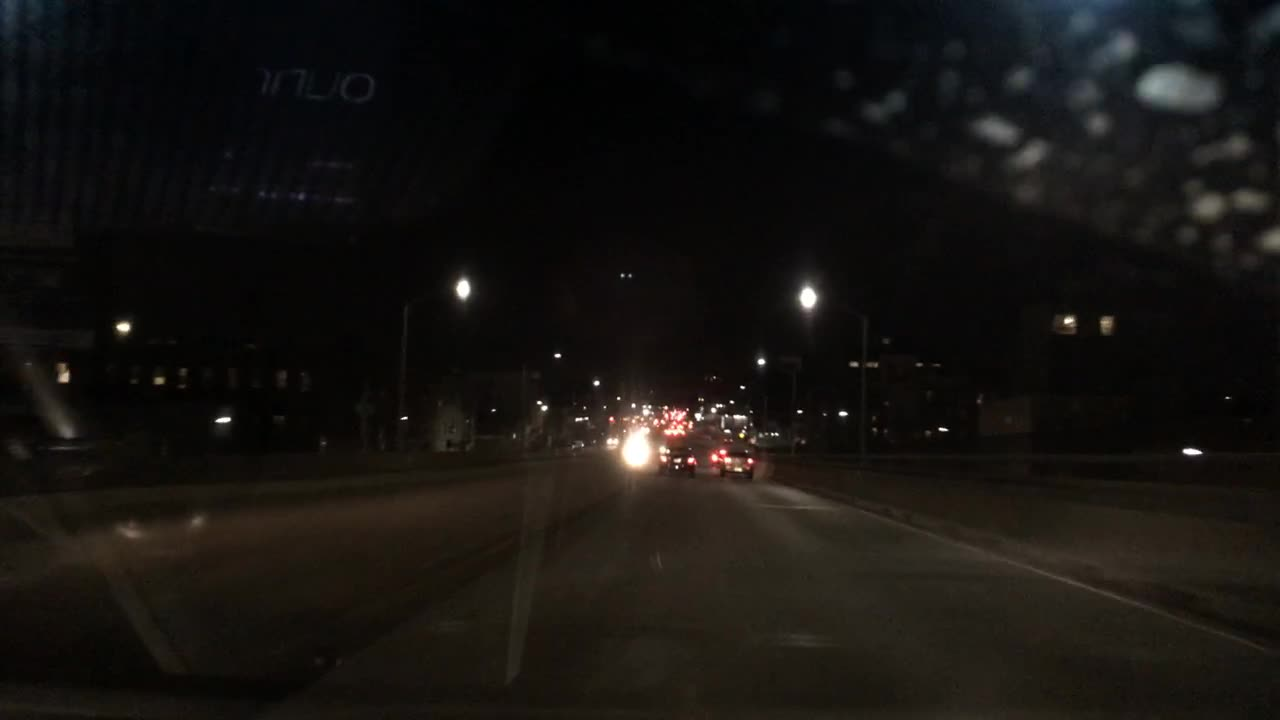car: (658, 446, 693, 473), (722, 450, 752, 477), (712, 447, 724, 465), (671, 426, 686, 437), (605, 433, 618, 444), (661, 426, 669, 436), (722, 434, 732, 442), (640, 423, 648, 432)
